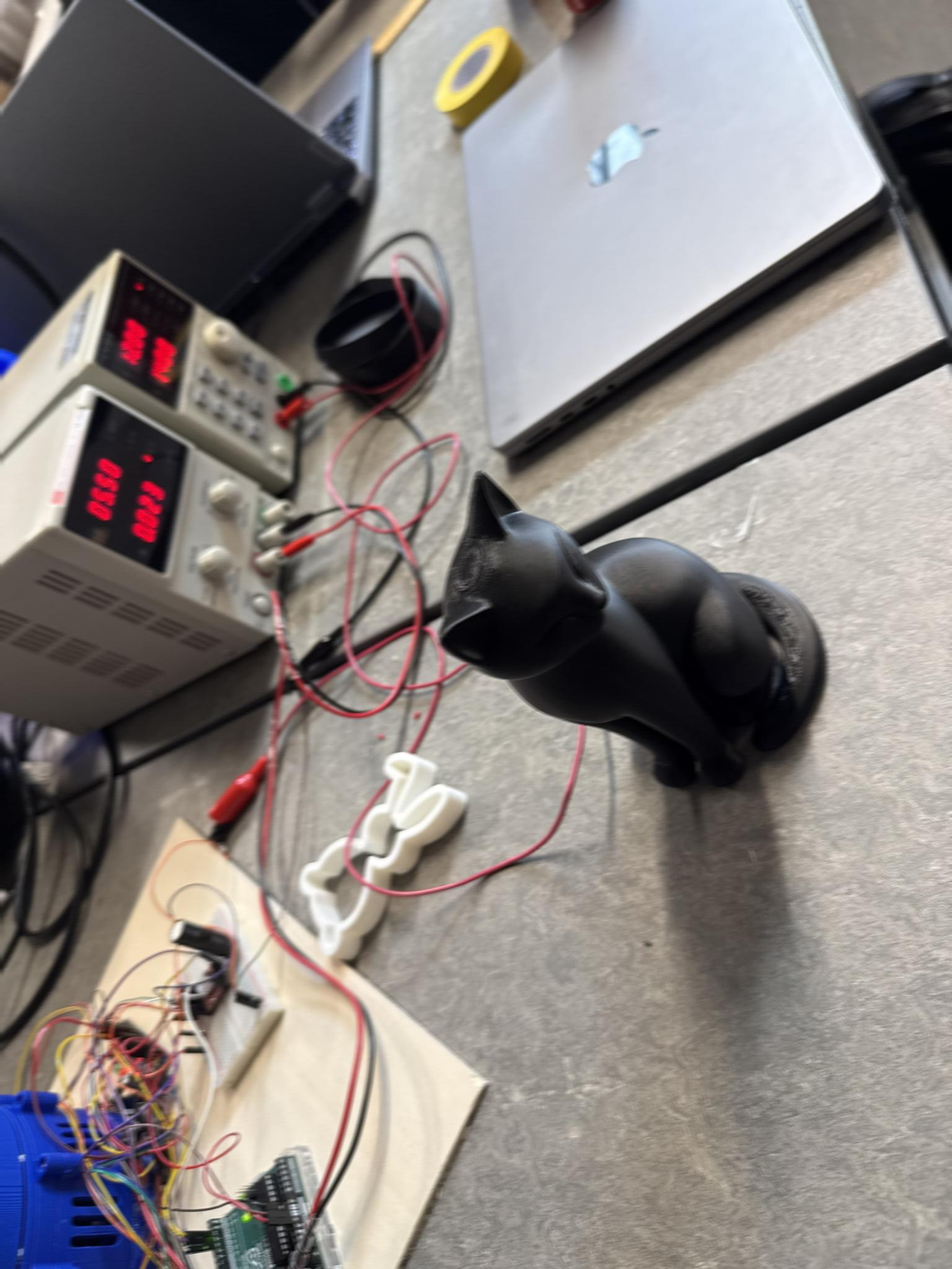cat: (438, 471, 826, 788)
